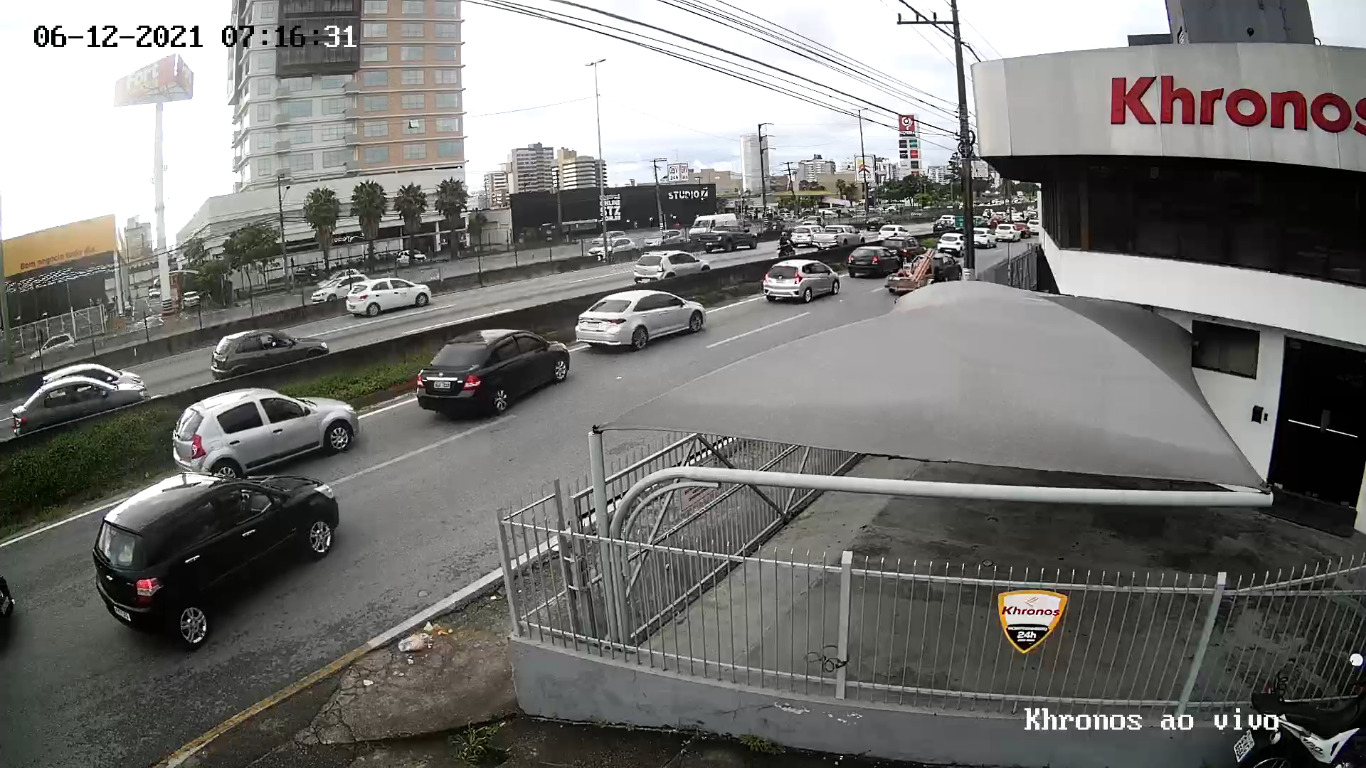car: (93, 471, 341, 649), (169, 387, 359, 479), (417, 326, 571, 414), (576, 290, 706, 352)
